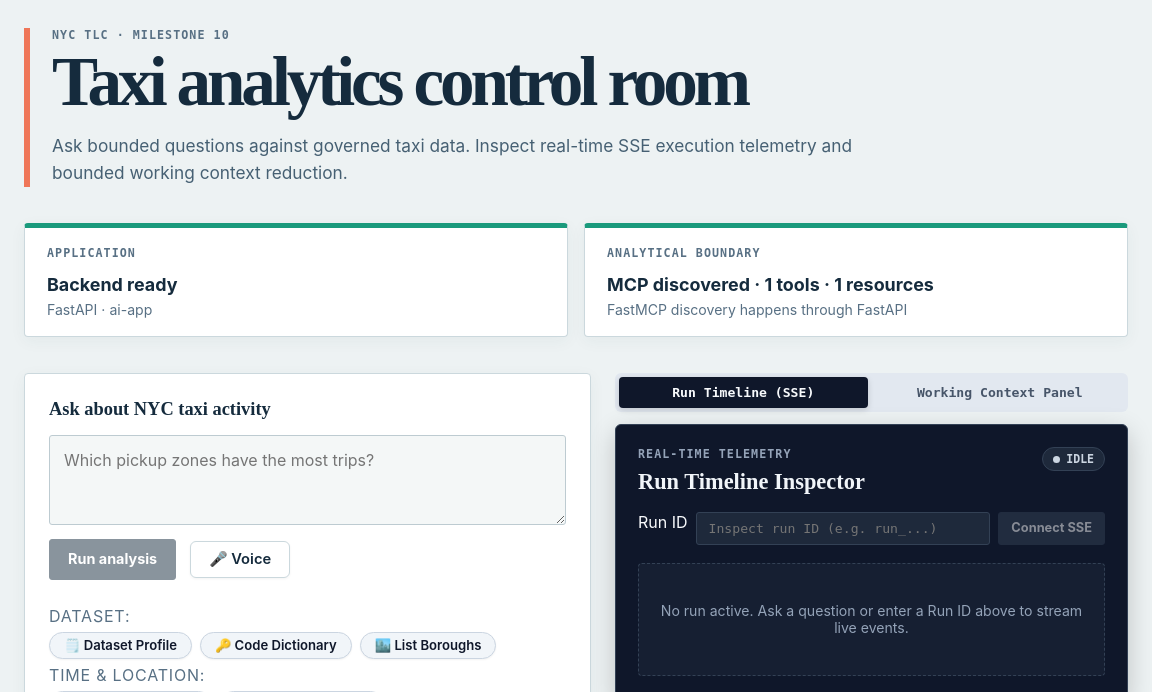
Test: App › progressively renders answer.delta text as SSE chunks arrive before run.completed
The image size is (1152, 692).
Type "Which zone leads?" into the text box labelled "Ask about NYC taxi activity".
click(308, 480); type("Which zone leads?")  # box [49,436,566,526]
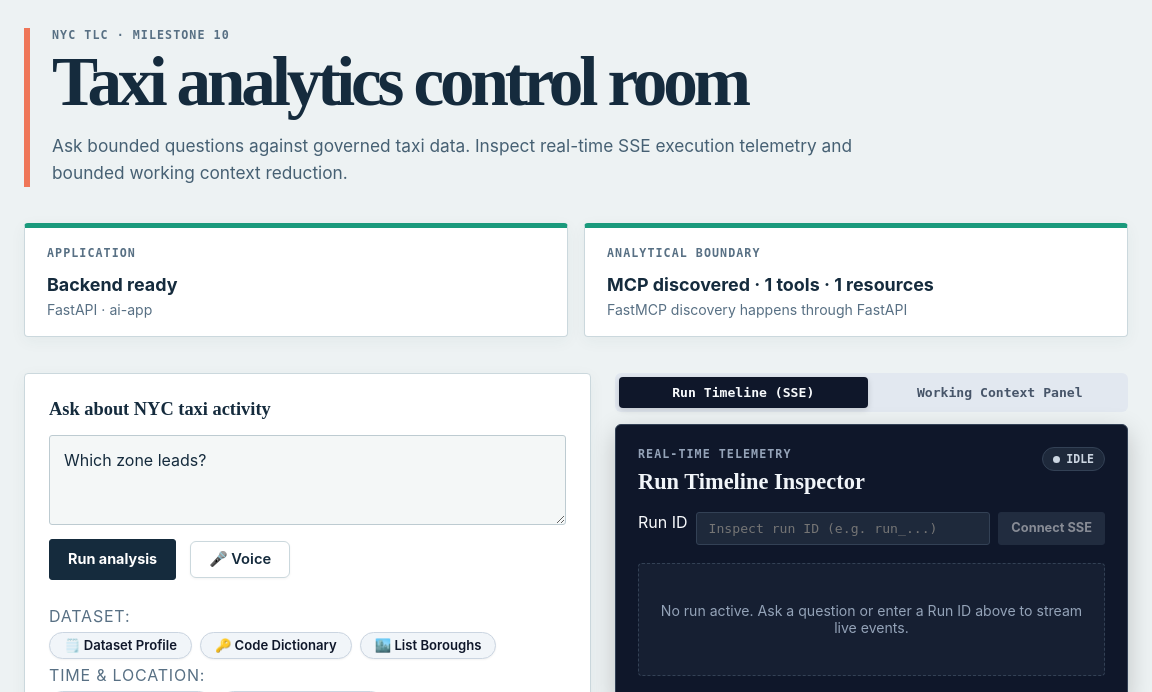
Click the button "Run analysis".
click(113, 560)  # box [49,540,176,580]
(page scrolled)
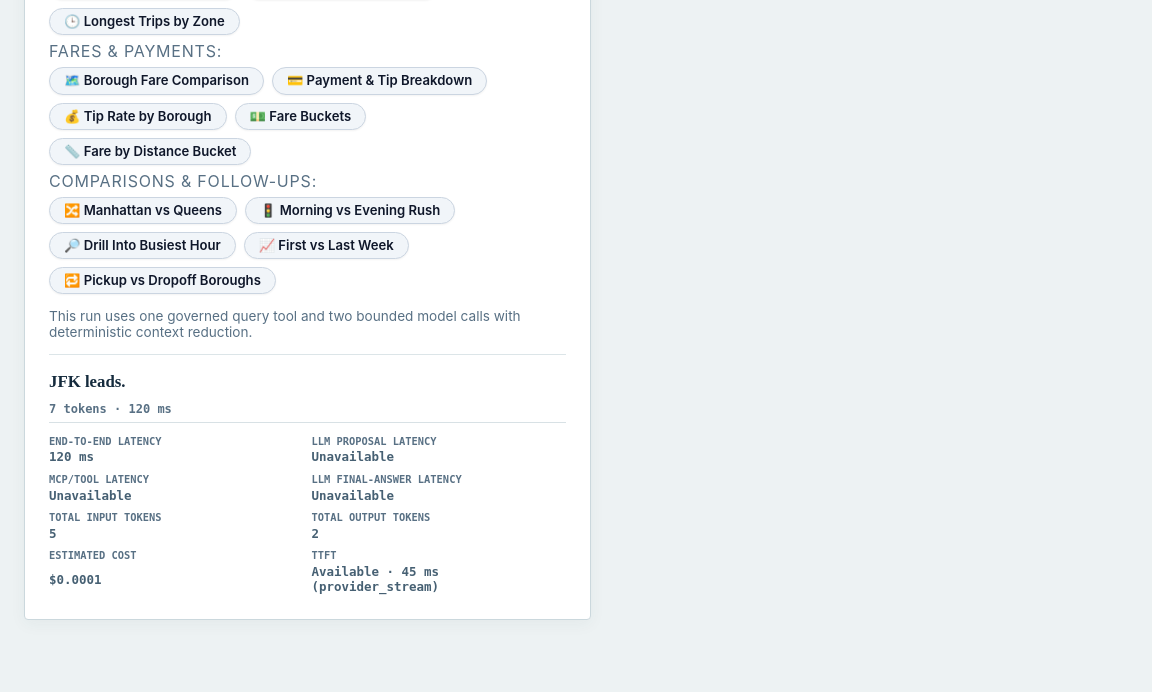
Expected: the text "JFK leads." is shown, [49,372,126,391]
Expected: the text "Available · 45 ms (provider_stream)" is shown, [312,564,439,594]
